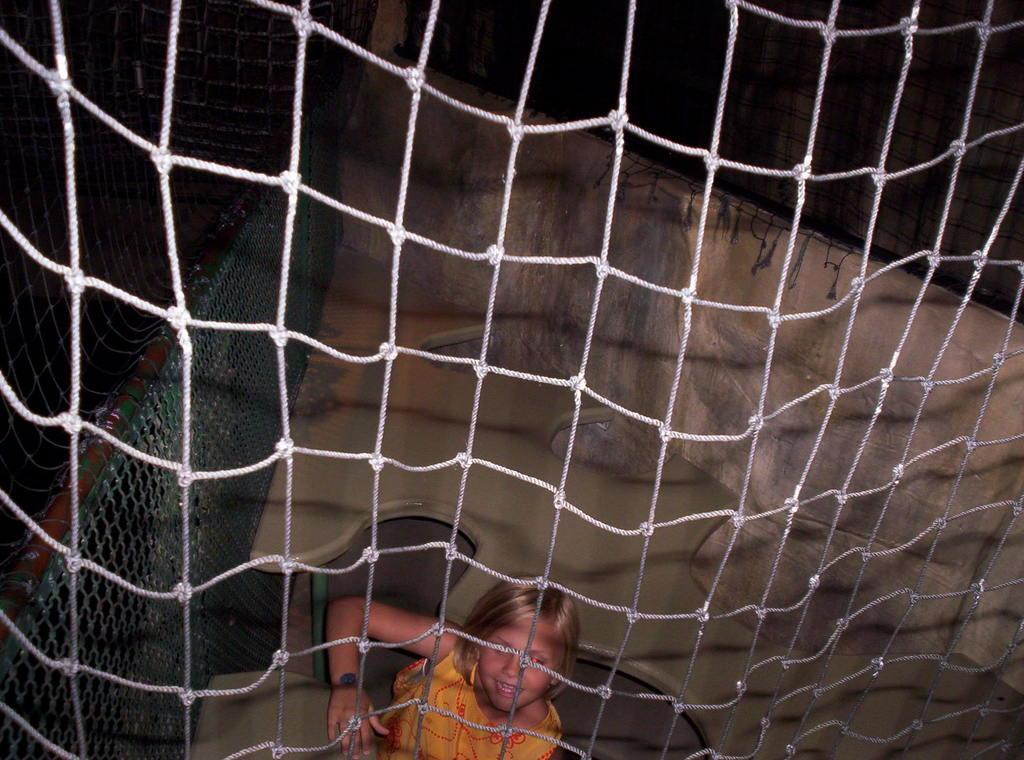Sem Máscara: (478, 623, 551, 711)
